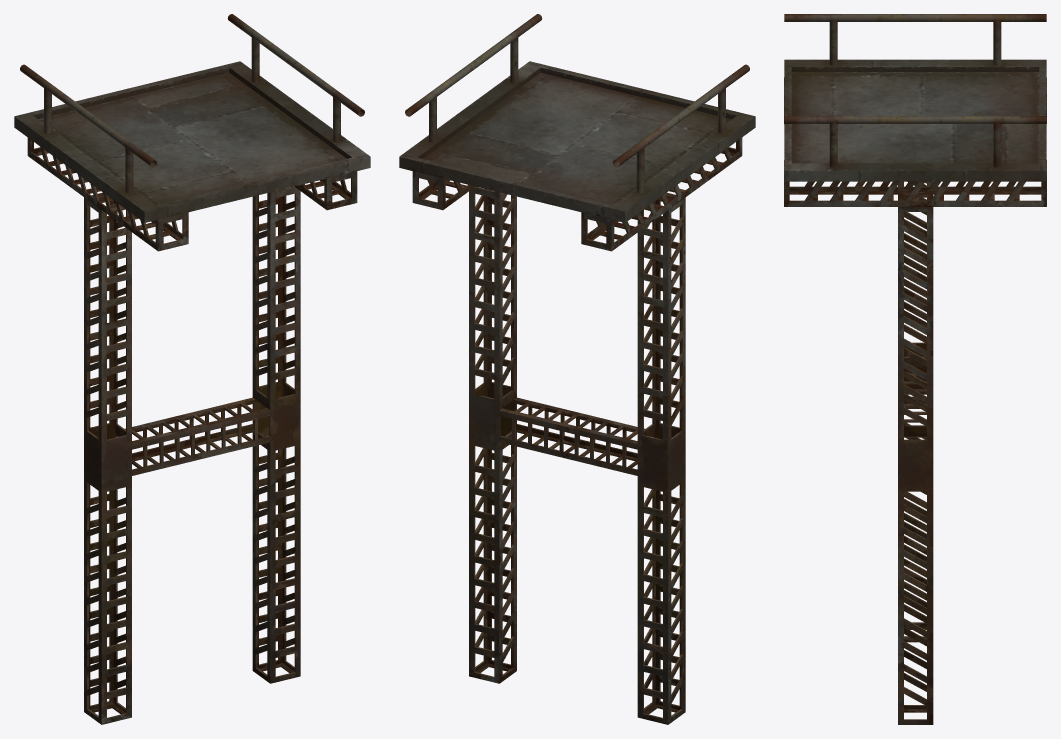
The model's file is Front_Platform.fbx.
3 views of the same model, side by side, from view 1: azimuth 30°, elevation 25°; view 2: azimuth 150°, elevation 25°; view 3: azimuth 270°, elevation 25° (orthographic).
Visible parts, largest first — view 1: Front_platform; view 2: Front_platform; view 3: Front_platform.
Boxes of the visible parts, x1,y1,x2,y2 form: Front_platform: (14, 14, 370, 724); Front_platform: (399, 14, 755, 724); Front_platform: (784, 14, 1046, 724).
Size of the model in its own units: 4 by 4 by 10.27.
